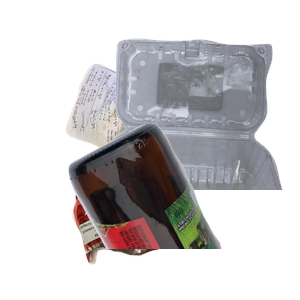glass: (66, 120, 300, 300)
paper: (63, 61, 242, 206)
plastic: (80, 36, 300, 216)
trash: (70, 162, 257, 300)
